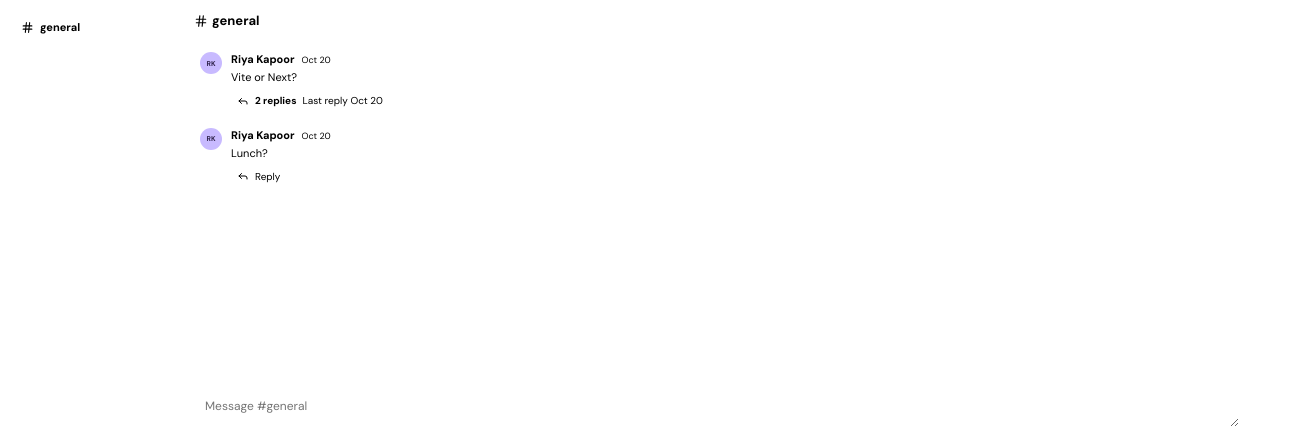
Scenario: ChatPanel threads (US-17) › opens the thread, shows its replies and updates the count after replying
Click the button with aria-label "2 replies, open thread". click: coordinates (311, 100)
box: [231,90,391,111]
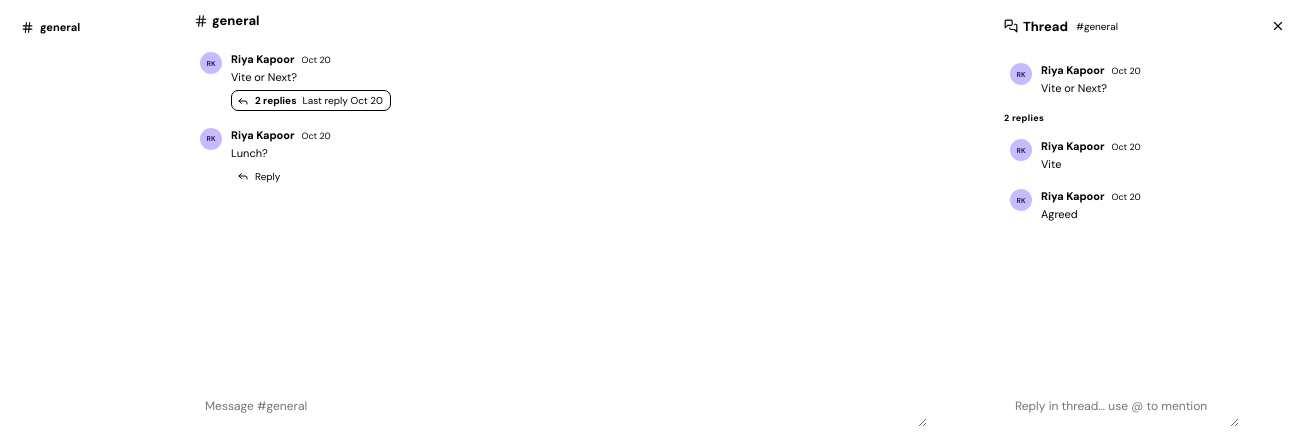
Check: the text "Agreed" is shown, box [1041,207,1078,221]
Type "Ship it" into the dropdown labelled "Reply". click: coordinates (1122, 408)
box: [1004,389,1239,427]
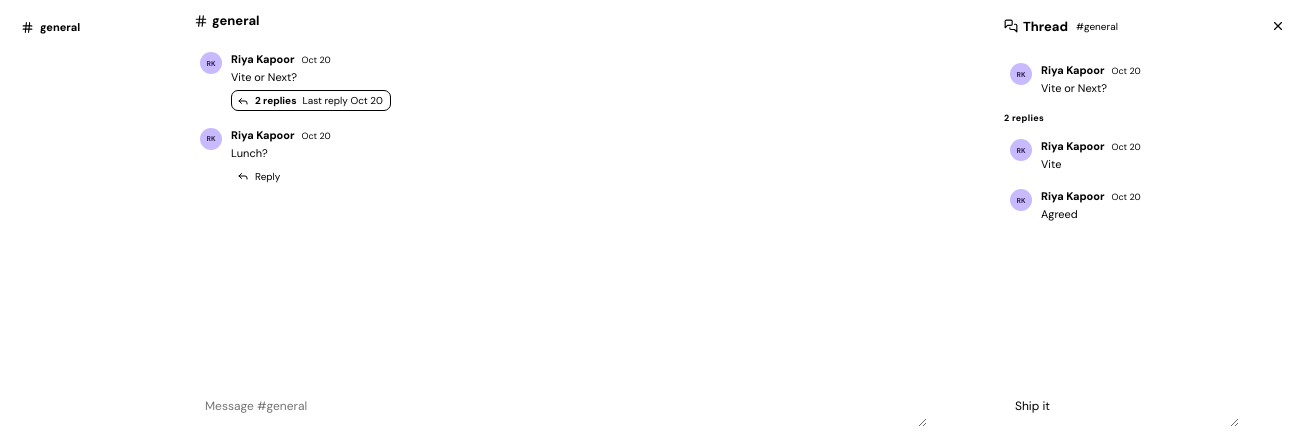
Press Enter in the dropdown named "Reply", box [1004,389,1239,427]
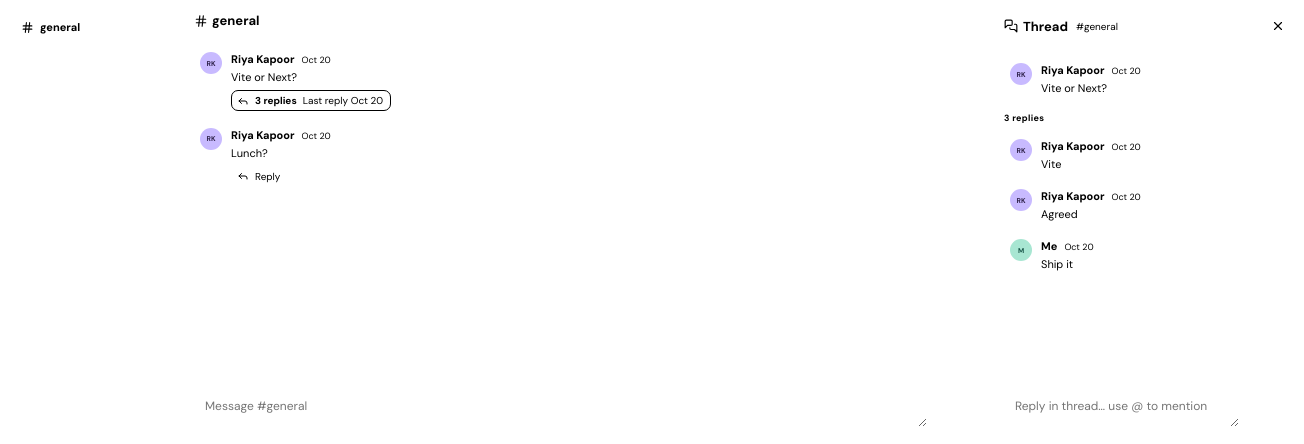
Check: the dropdown "Ship it" is shown, box [1004,389,1239,427]
Check: the 1st text "3 replies" is shown, box [255,94,297,107]
